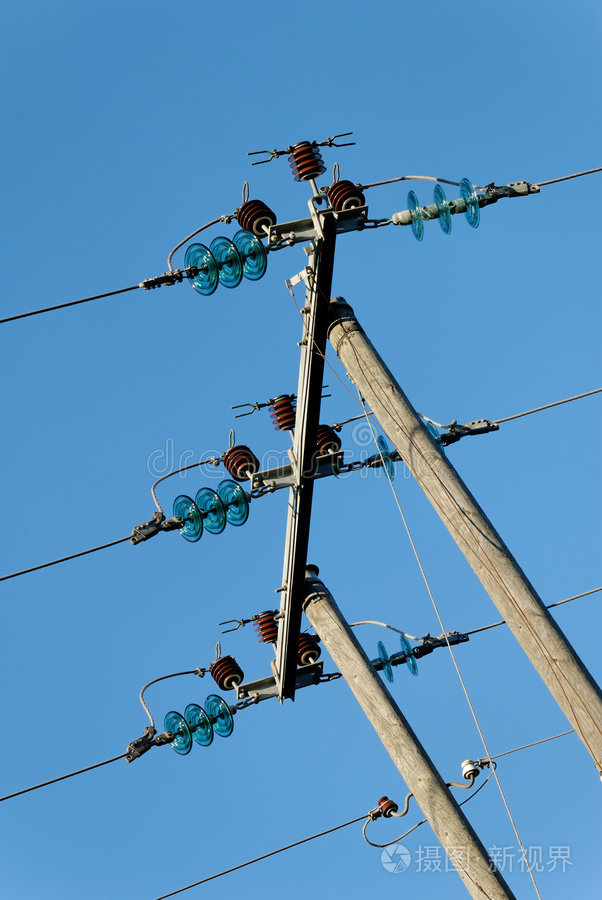insulator: (182, 228, 270, 296), (406, 178, 487, 244), (173, 481, 247, 546), (165, 691, 234, 757), (375, 629, 418, 685), (373, 434, 400, 482)
